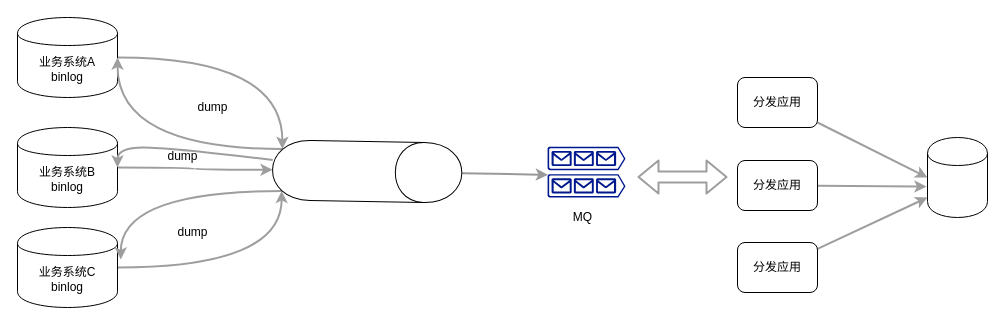
Image size: 1005x325. Some labels were removed from this diagram. Each missing label, with the centre of its shape:
Canal: point 366,171
主数据: point 957,177
